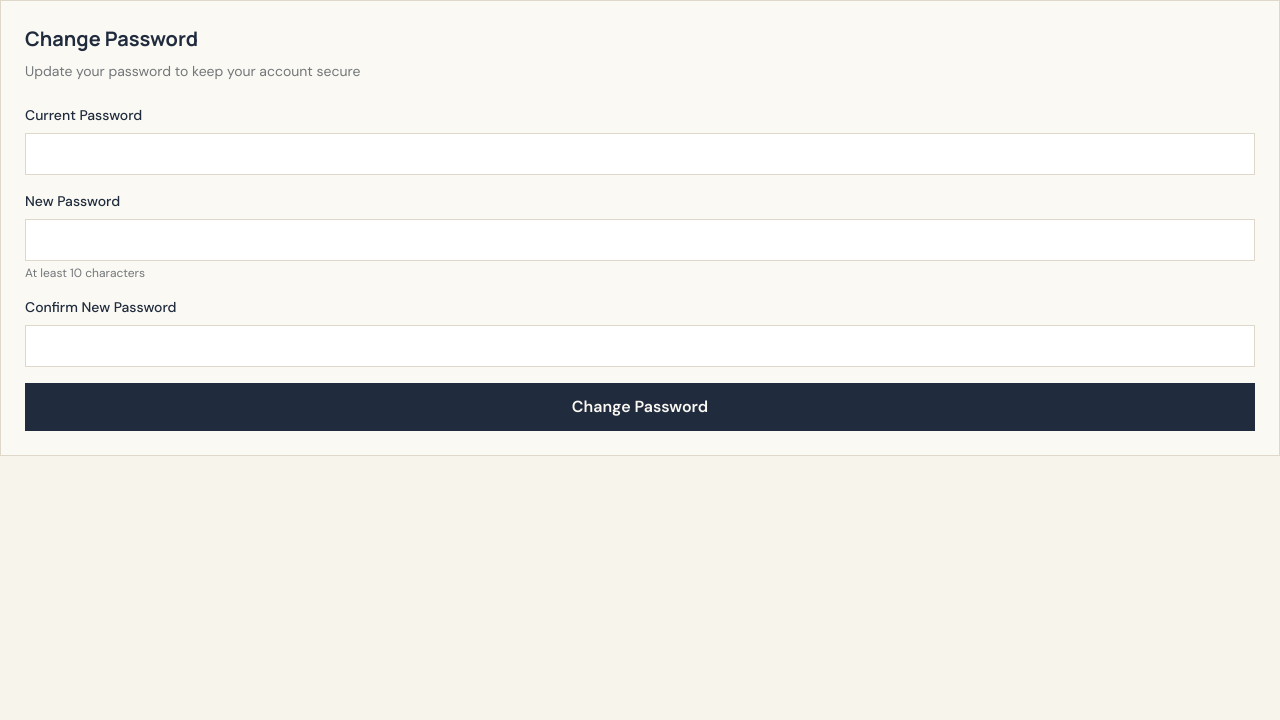
Test: ChangePasswordForm › shows error for wrong current password
The image size is (1280, 720).
Type "wrongpassword" into the password field labelled "Current Password".
click(640, 154); type("wrongpassword")  # box top-left (25, 133), bottom-right (1255, 175)
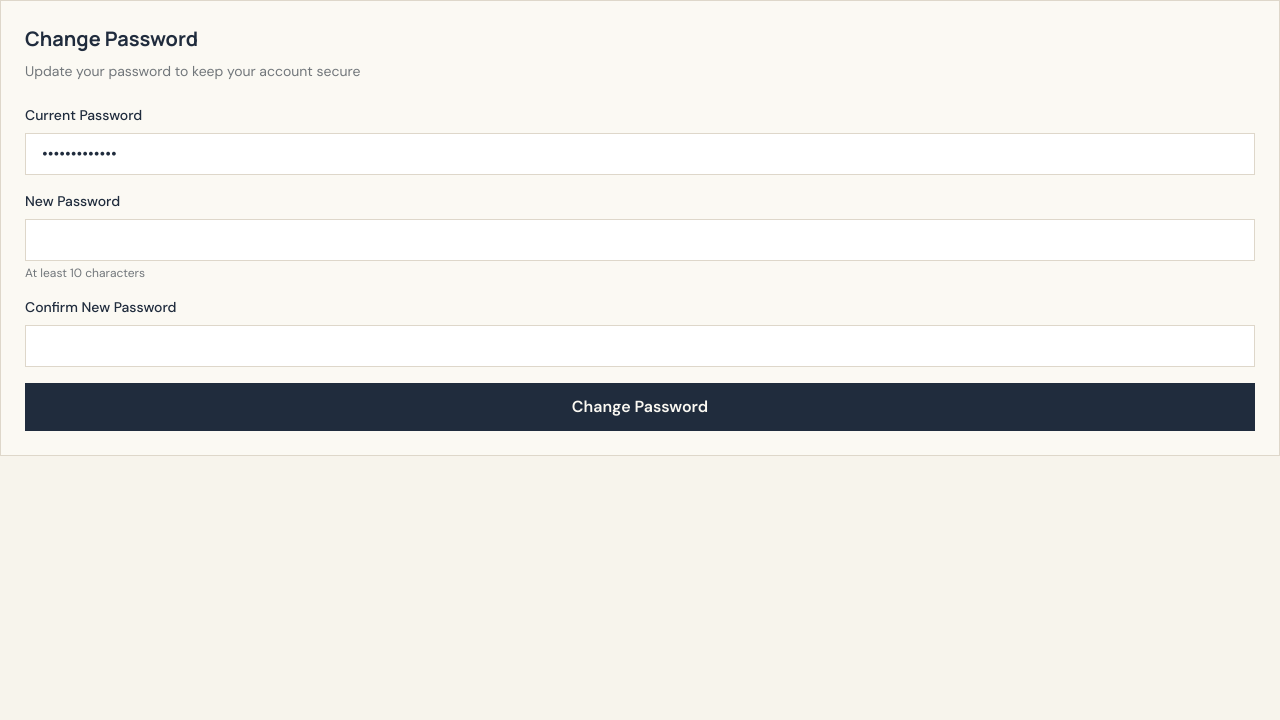
Type "newpassword123" into the password field labelled "New Password".
click(640, 240); type("newpassword123")  # box top-left (25, 219), bottom-right (1255, 261)
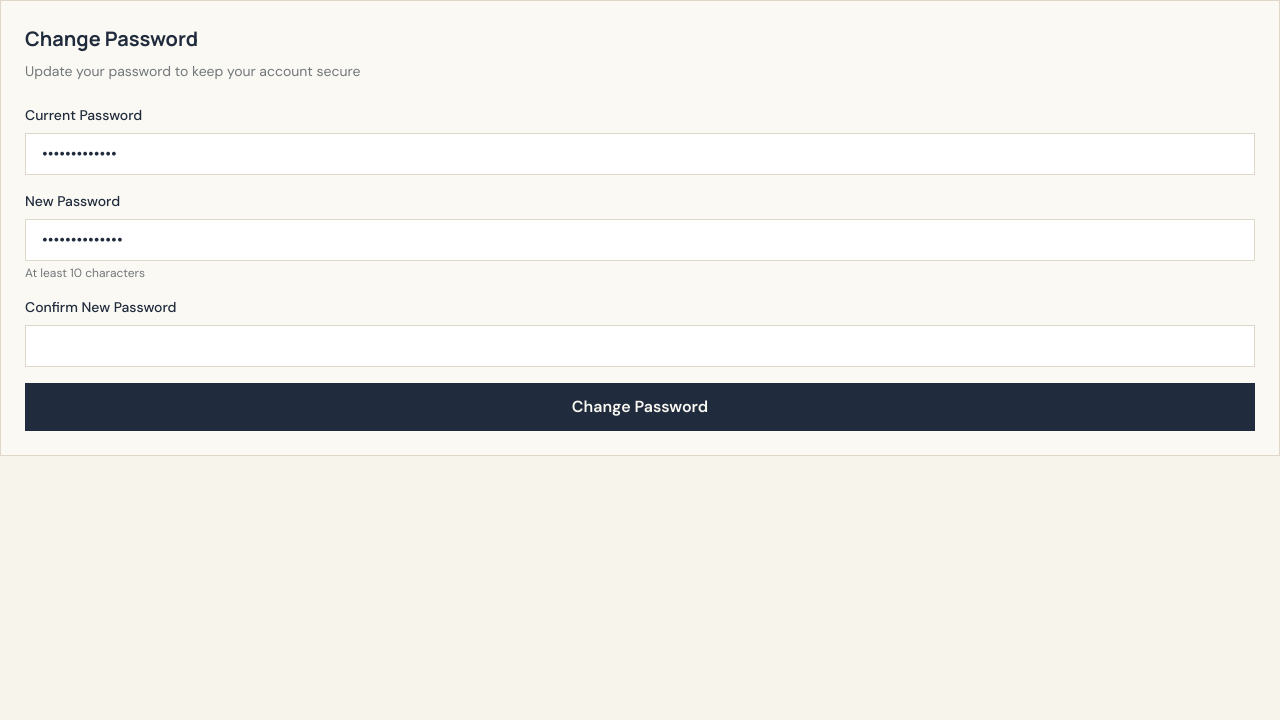
Type "newpassword123" into the password field labelled "Confirm New Password".
click(640, 346); type("newpassword123")  # box top-left (25, 325), bottom-right (1255, 367)
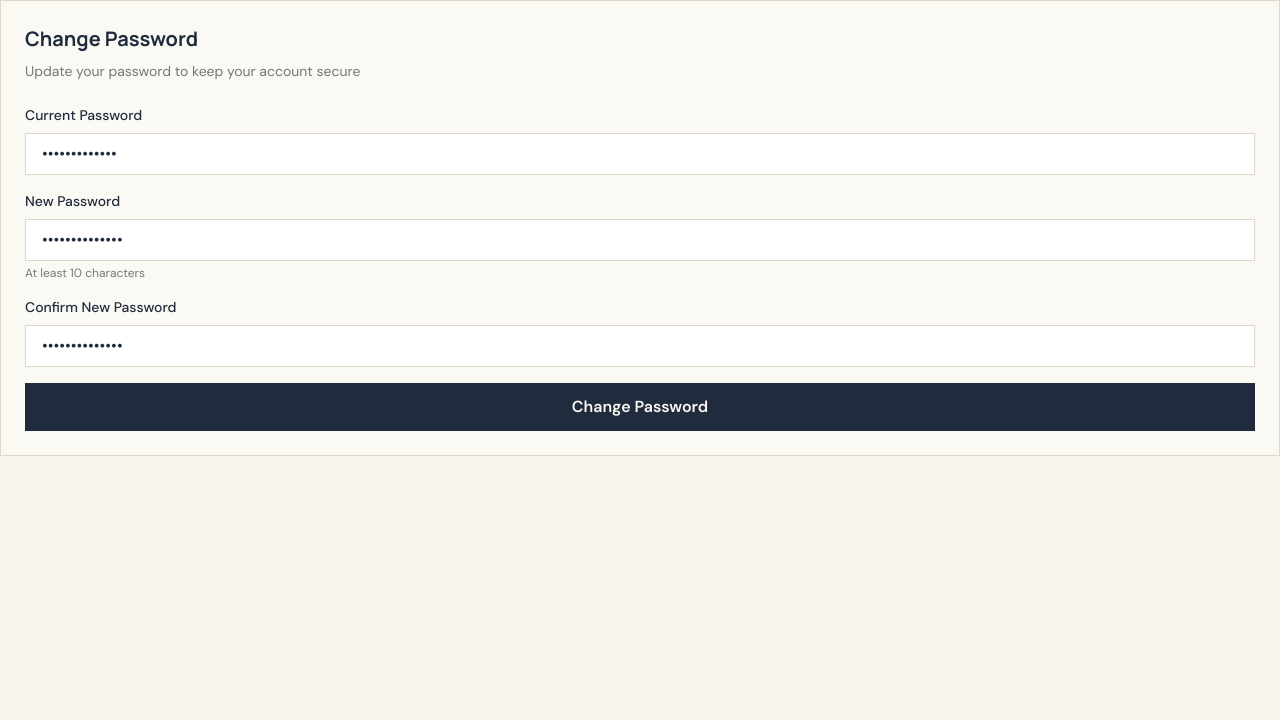
Click the button "Change Password".
click(640, 407)  # box top-left (25, 383), bottom-right (1255, 431)
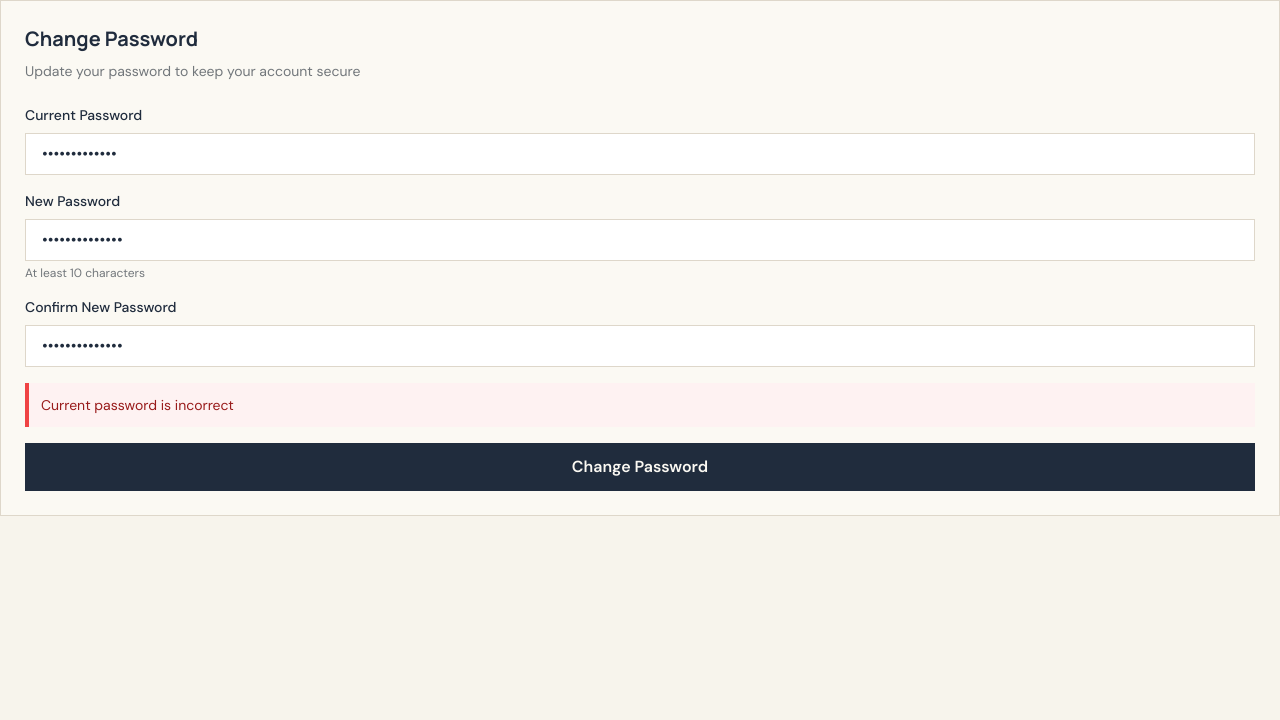
Expected: the text "Current password is incorrect" is shown, top-left (25, 383), bottom-right (1255, 427)
